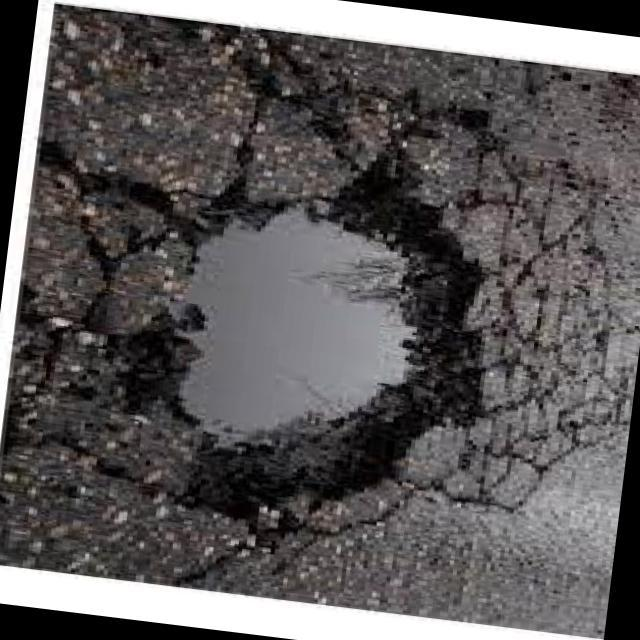pothole: (127, 100, 530, 540)
